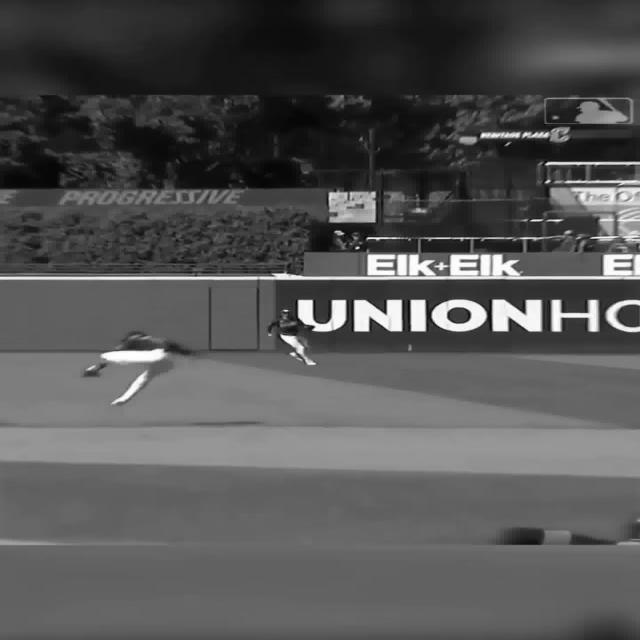baseball_glove: (80, 363, 104, 377)
shoe: (110, 398, 129, 406), (289, 352, 303, 361), (304, 359, 316, 365)
